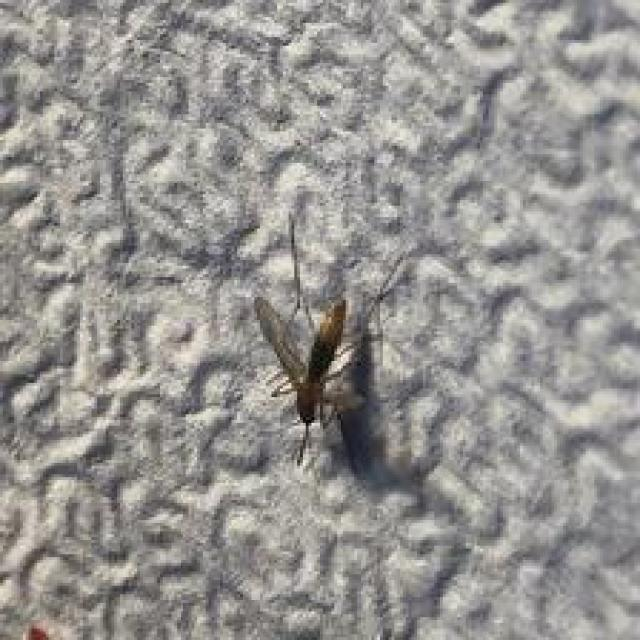Culex: (250, 213, 379, 470)
